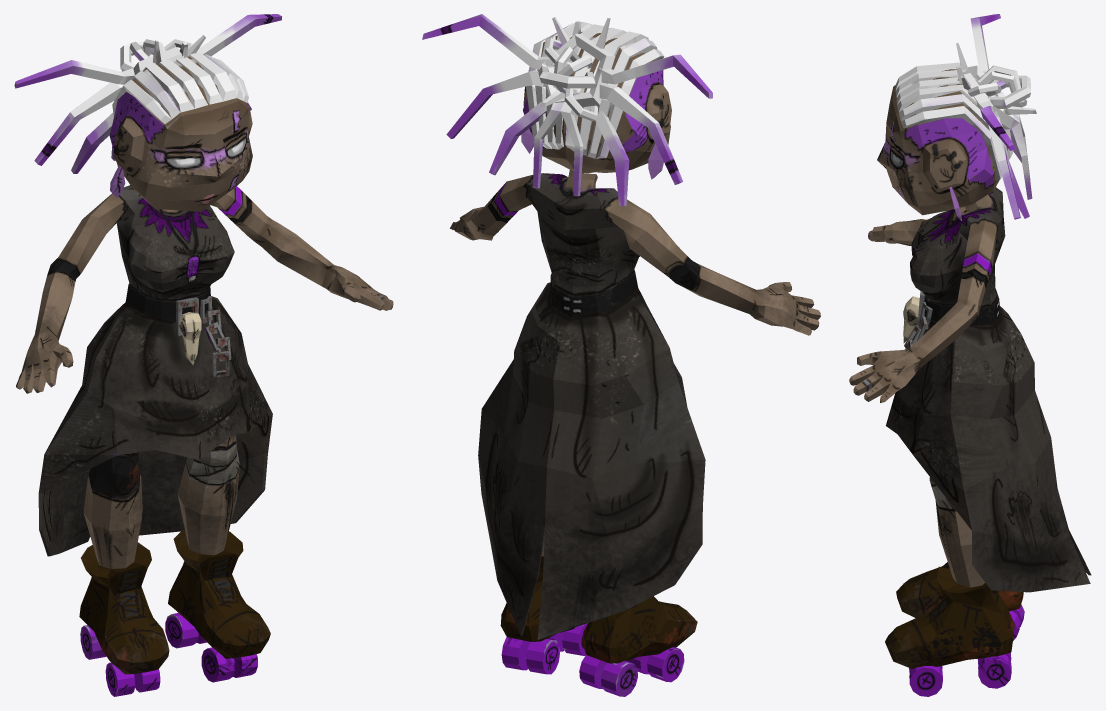
File: bruja_000161.obj
The picture shows the model from 3 angles, left to right: view 1: azimuth 30°, elevation 25°; view 2: azimuth 150°, elevation 25°; view 3: azimuth 270°, elevation 25°; orthographic projection. The views are drawn at different scales.
Visible parts, largest first — view 1: Bruja_Plane.001; view 2: Bruja_Plane.001; view 3: Bruja_Plane.001.
Boxes of the visible parts, x1=… form: Bruja_Plane.001: x1=14, y1=14, x2=393, y2=696; Bruja_Plane.001: x1=422, y1=14, x2=820, y2=696; Bruja_Plane.001: x1=849, y1=14, x2=1091, y2=696.
Size of the model in its own units: 9.83 by 16.69 by 5.93.
